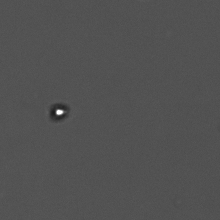Living Cell: (49, 99, 71, 124)
